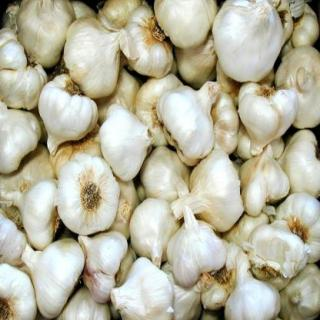Bawang Putih: (172, 154, 245, 233), (214, 2, 284, 83), (58, 154, 120, 237), (64, 17, 123, 100), (157, 84, 217, 164), (22, 242, 85, 318), (239, 81, 299, 153), (100, 104, 154, 183), (109, 256, 175, 320), (167, 218, 227, 287), (38, 82, 99, 149), (20, 180, 58, 251)
